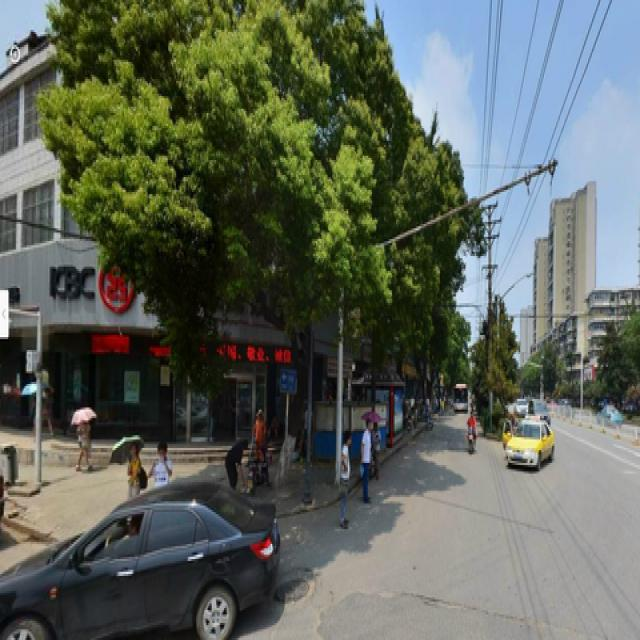cinn: (113, 32, 368, 435)
